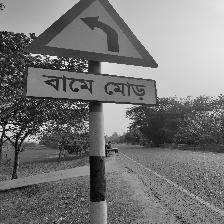Left-Turn: (23, 0, 160, 105), (30, 1, 100, 53), (28, 18, 81, 61), (10, 0, 51, 39)
